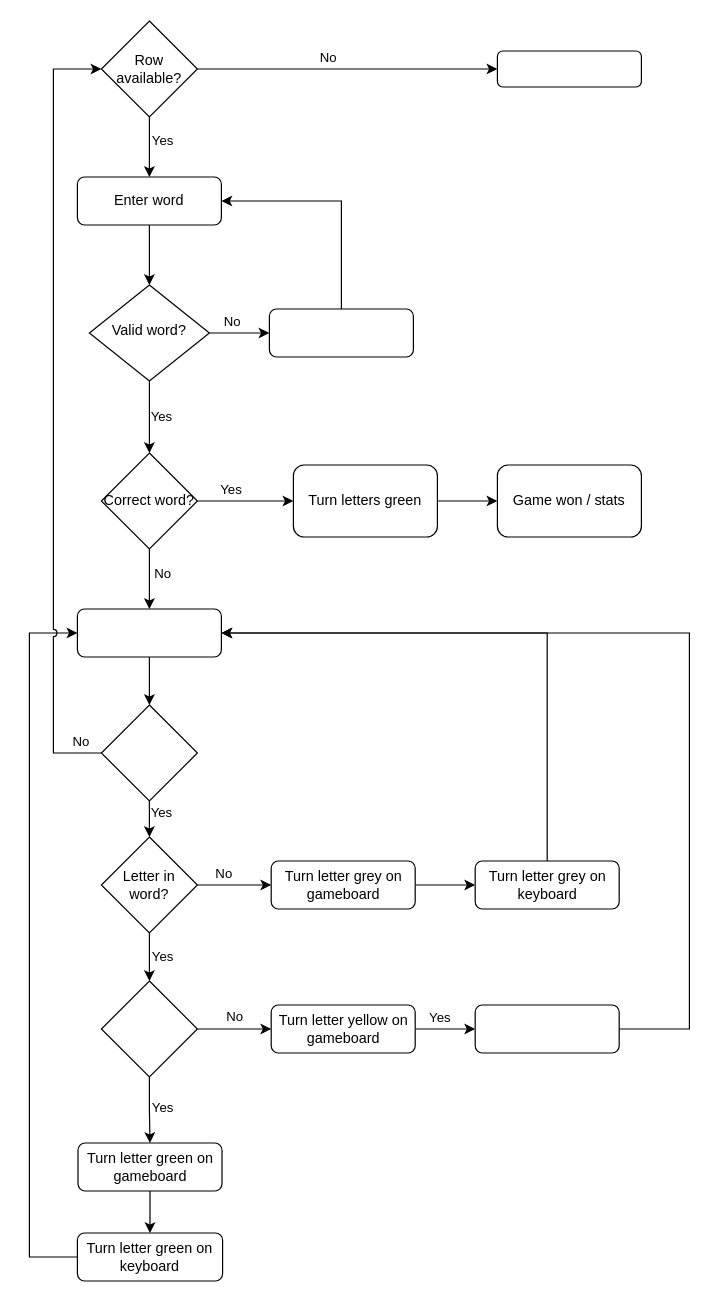
The diagram is 720 pixels wide and 1302 high, and some of its shapes have lost their labels. Here are the shapes that lost their labels. From the top down, the box of each, then its label:
(496, 50, 641, 87): Game lost
(268, 308, 413, 357): Invalid word error
(76, 608, 221, 657): Iterate letter-by-letter
(100, 704, 197, 801): Letters left?
(100, 980, 197, 1077): Letter in correct spot?
(474, 1004, 619, 1053): Turn letter yellow on keyboard
